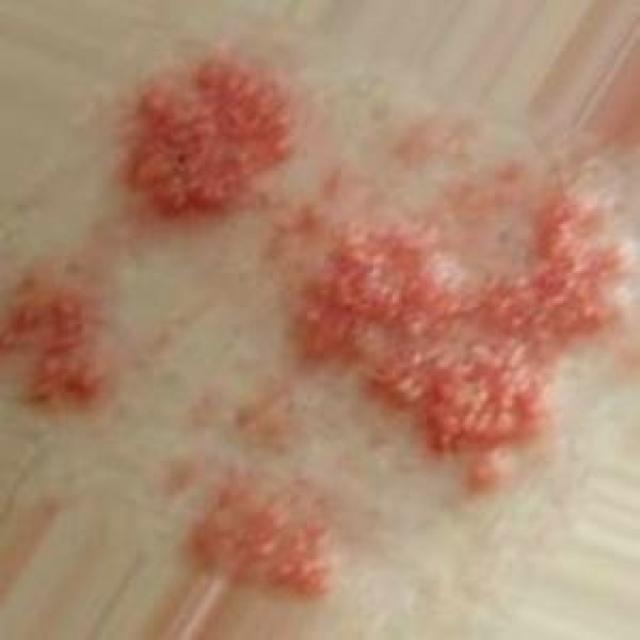Shingles: (303, 192, 614, 491), (129, 58, 292, 214), (196, 474, 332, 598), (1, 276, 111, 410)
